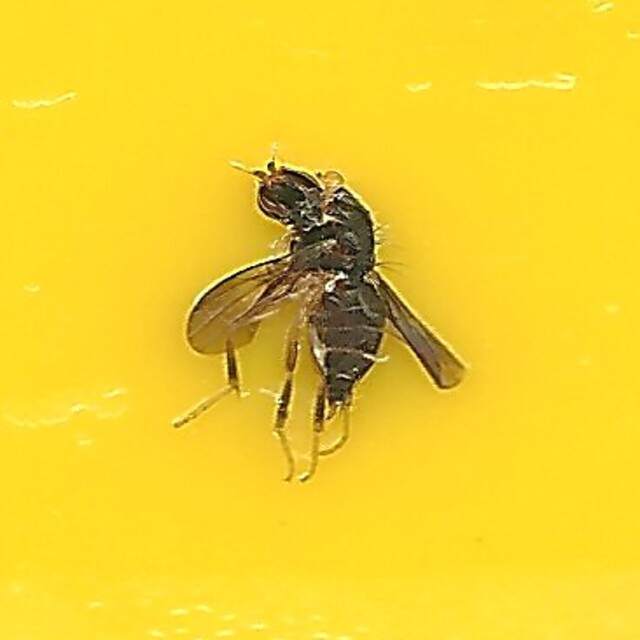Brachycera: (175, 154, 465, 486)
